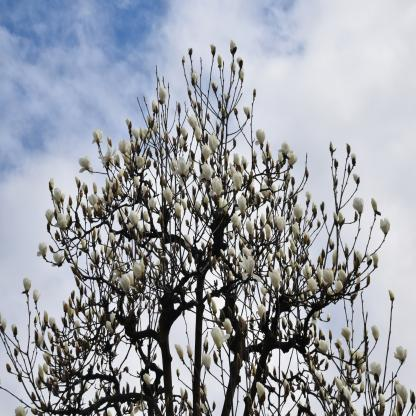Mokuren: (0, 39, 414, 416)
